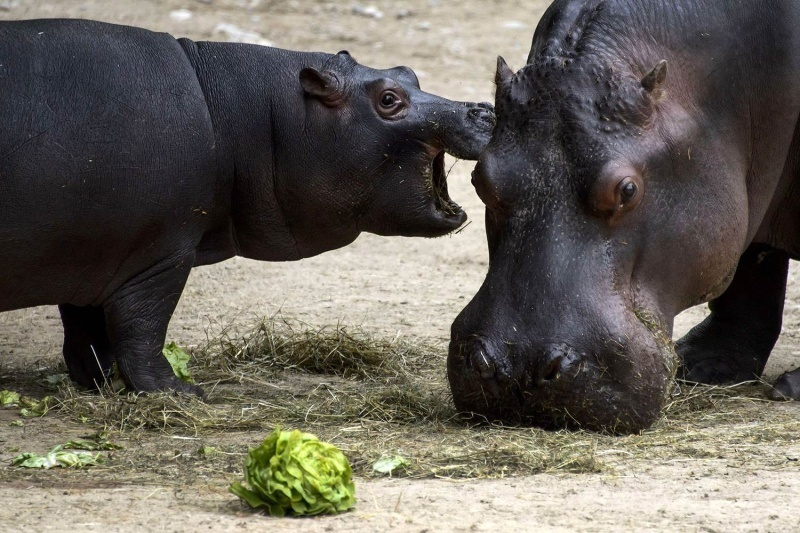hipopotamo: (0, 14, 486, 385), (444, 0, 800, 436)
